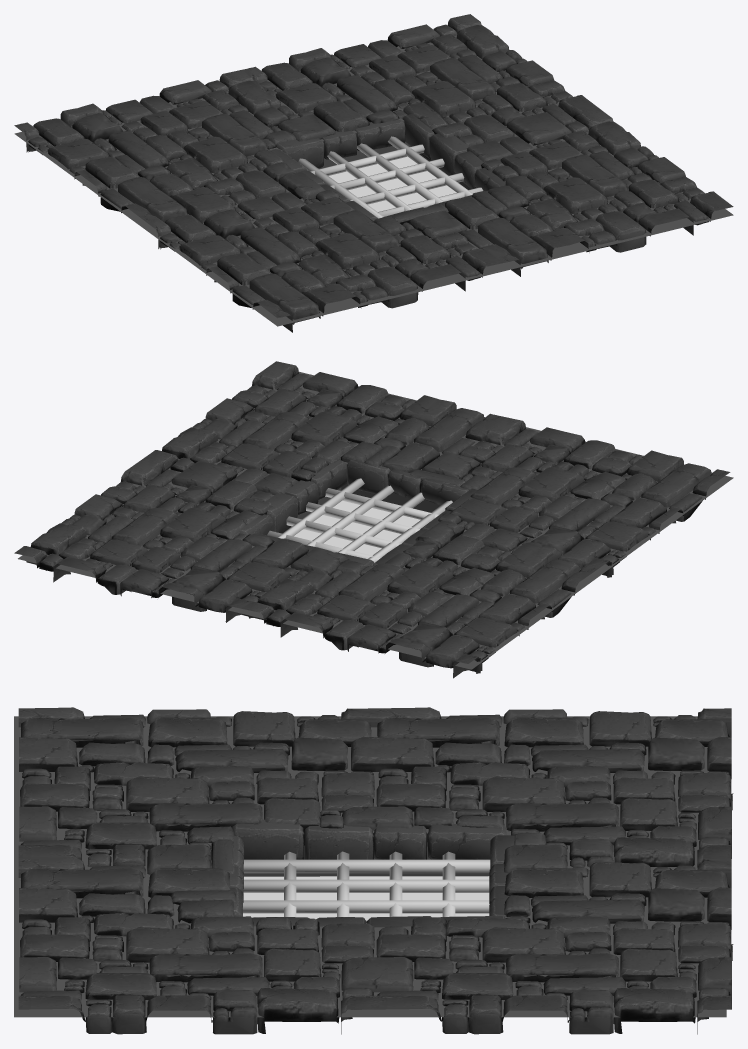
The model's file is cobblestone_plainSmall_grated.fbx.
3 views of the same model, one above another, from view 1: azimuth 30°, elevation 25°; view 2: azimuth 150°, elevation 25°; view 3: azimuth 270°, elevation 25° (orthographic). The views are drawn at different scales.
Parts seen in each view (by area): view 1: Floor_plainsmall_grate; view 2: Floor_plainsmall_grate; view 3: Floor_plainsmall_grate.
Boxes of the visible parts, x1,y1,x2,y2 form: Floor_plainsmall_grate: (14, 14, 733, 332); Floor_plainsmall_grate: (14, 361, 733, 678); Floor_plainsmall_grate: (14, 707, 733, 1034).
Bounding box in the file's own units: 301 × 26.26 × 303.
